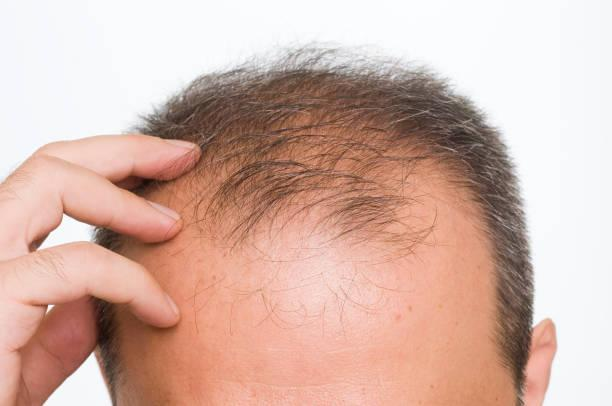grey hair: (383, 103, 438, 129), (433, 139, 460, 156)
low hair density: (217, 120, 381, 196), (246, 78, 404, 116), (341, 201, 427, 241), (385, 129, 429, 169), (191, 174, 216, 205)
